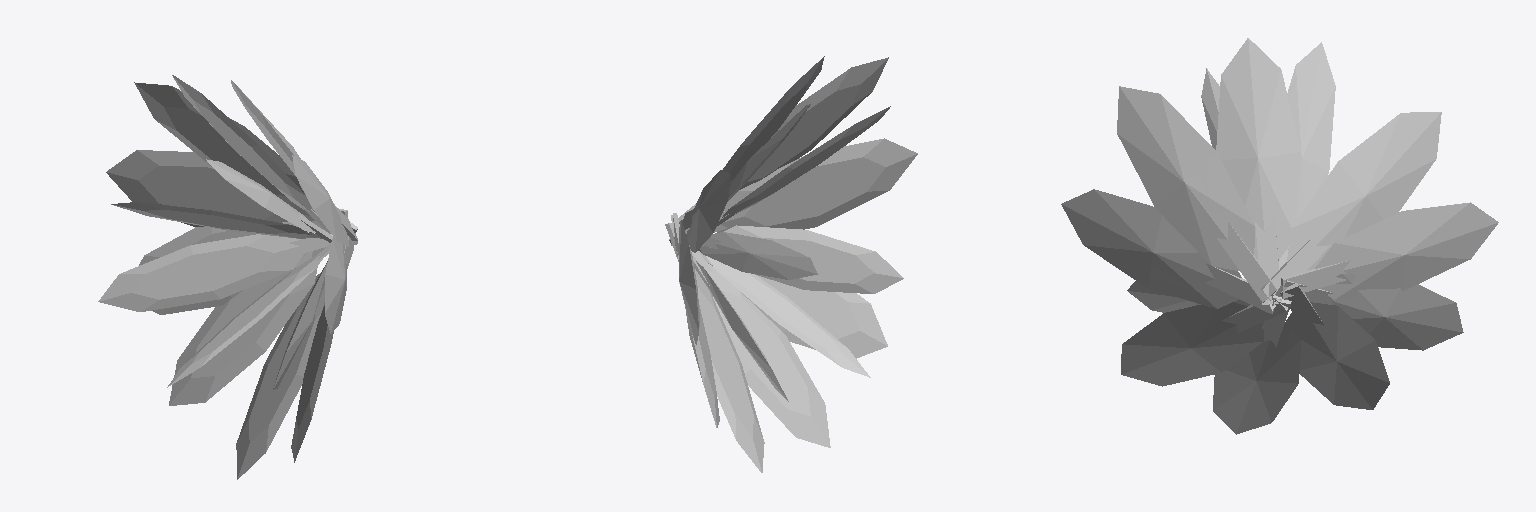
File: tinker.obj
The picture shows the model from 3 angles: view 1: azimuth 30°, elevation 25°; view 2: azimuth 150°, elevation 25°; view 3: azimuth 270°, elevation 25°; orthographic projection.
Parts seen in each view (by area): view 1: obj_0; view 2: obj_0; view 3: obj_0.
Part boxes in pixels (x1,y1,x2,y2): obj_0: (98,75,357,479); obj_0: (665,56,917,472); obj_0: (1061,38,1498,434).
Bounding box in the file's own units: 46.47 × 90 × 90.